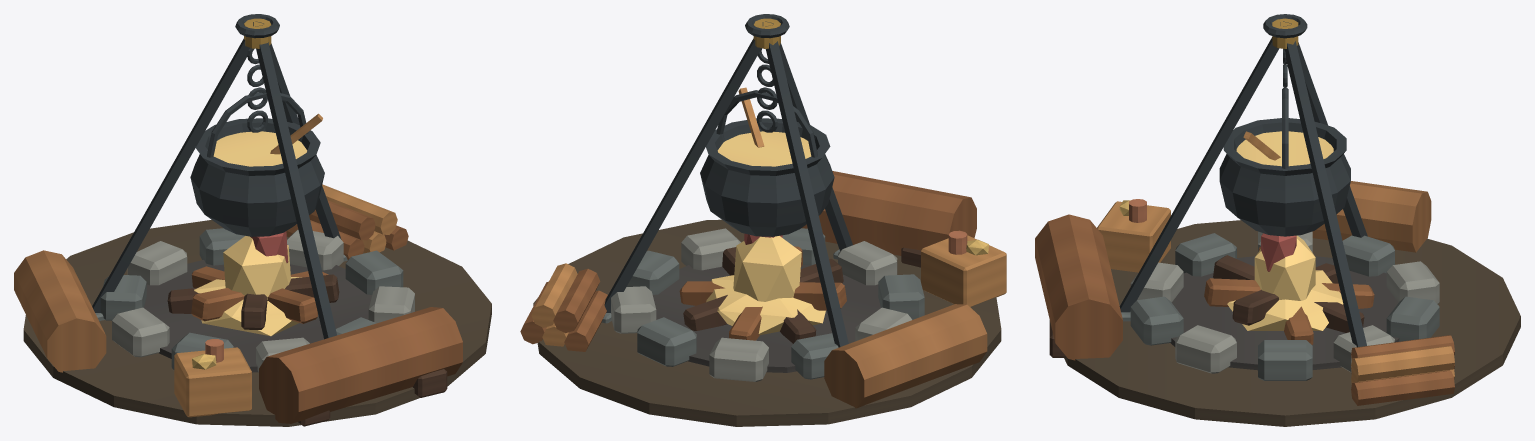
Rendered from campfire_cooking_tripod.glb.
The picture shows the model from 3 angles, left to right: view 1: azimuth 30°, elevation 25°; view 2: azimuth 150°, elevation 25°; view 3: azimuth 270°, elevation 25°; orthographic projection.
Visible parts, largest first — view 1: campfire_cooking_tripod; view 2: campfire_cooking_tripod; view 3: campfire_cooking_tripod.
Part boxes in pixels (<box>): campfire_cooking_tripod: <box>14,14,491,426</box>; campfire_cooking_tripod: <box>520,14,1006,426</box>; campfire_cooking_tripod: <box>1035,14,1520,426</box>.
Bounding box in the file's own units: 2.3 × 1.6 × 2.31.
1 material, 1 textured.
